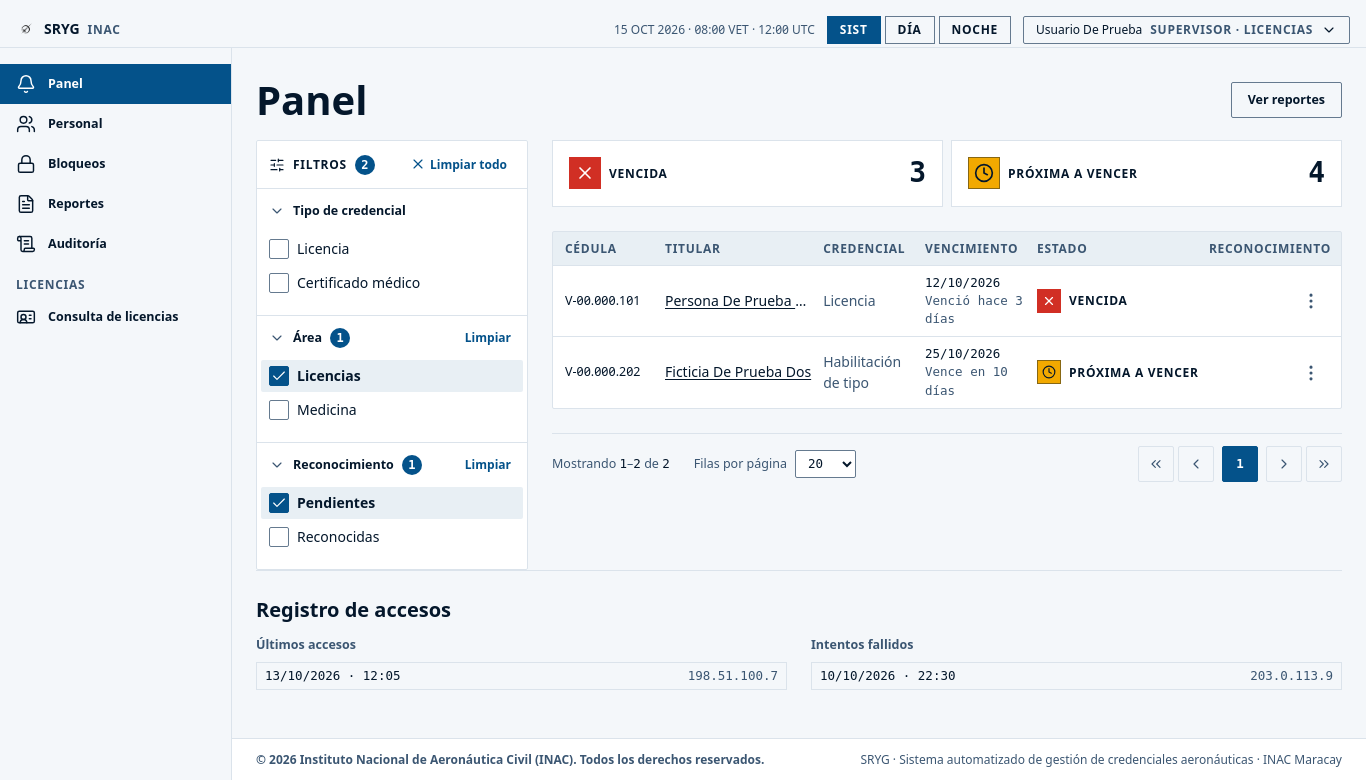
/panel (ALR-03) › acknowledges an alert and reloads the list and the counts (ALR-06)
Click the button named "Acciones de la alerta" at (1311, 301), box [1293,283,1329,319]
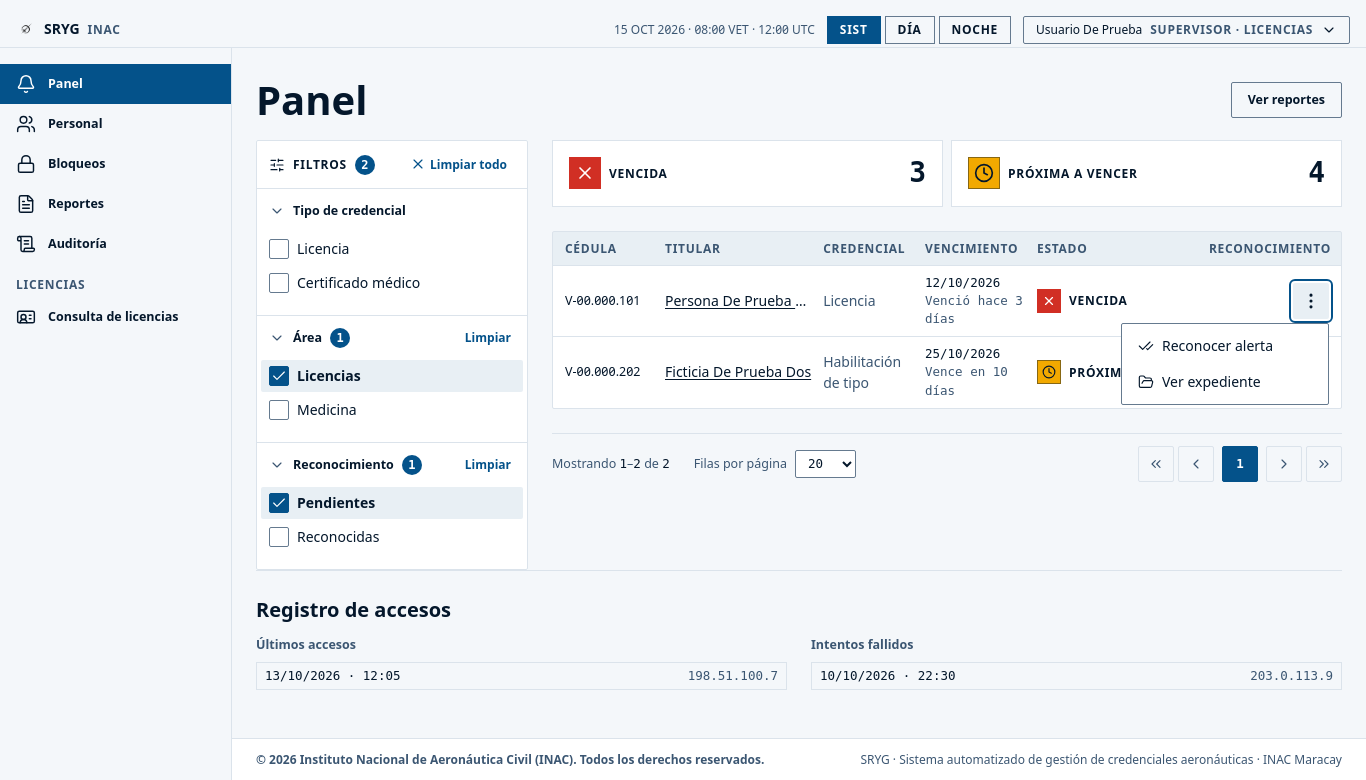
Click the menu item "Reconocer alerta" at (1225, 346), box [1122,328,1328,364]
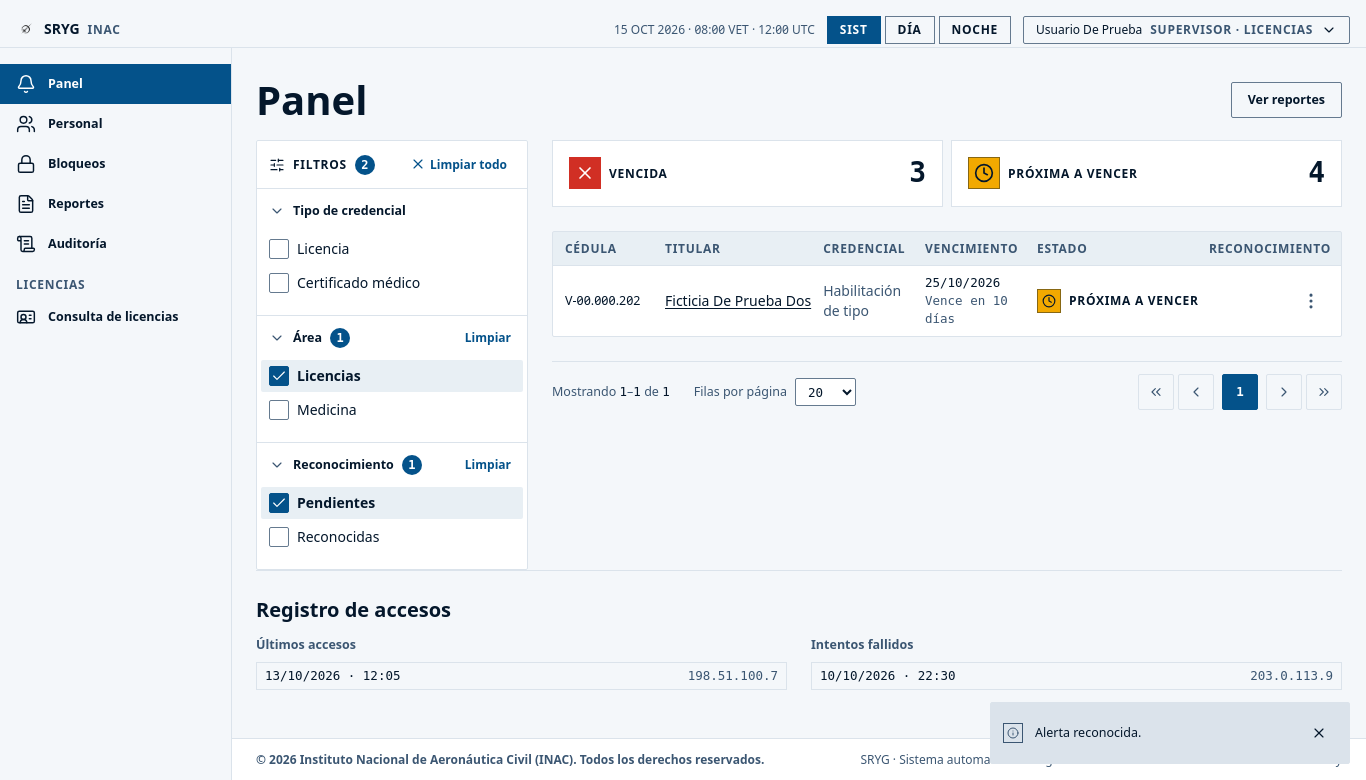
expect the text "Alerta reconocida." is shown: met, box [1035,724,1141,741]
